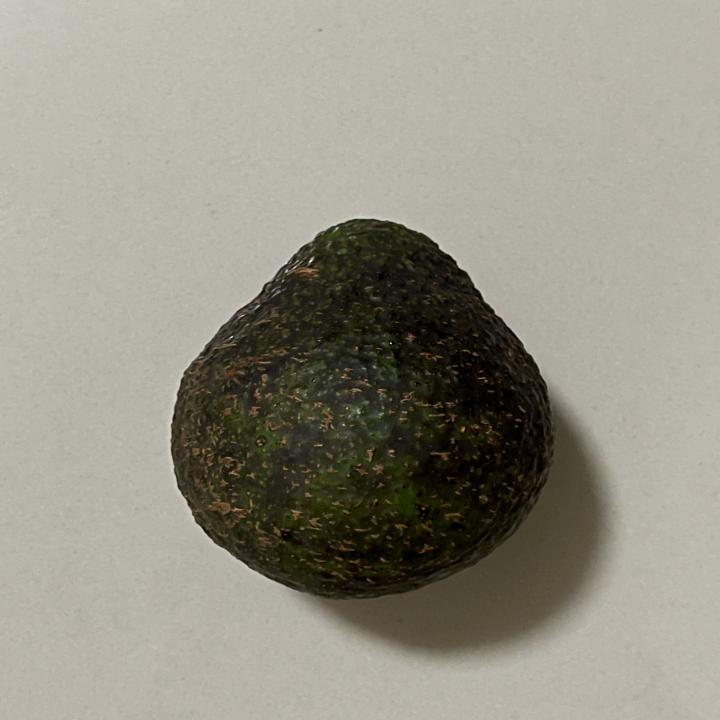Level1: (142, 204, 578, 606)
